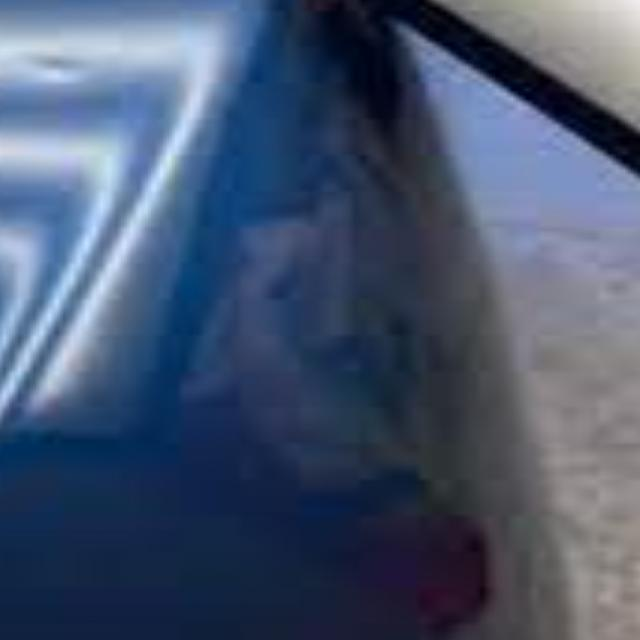dents: (23, 44, 126, 112)
